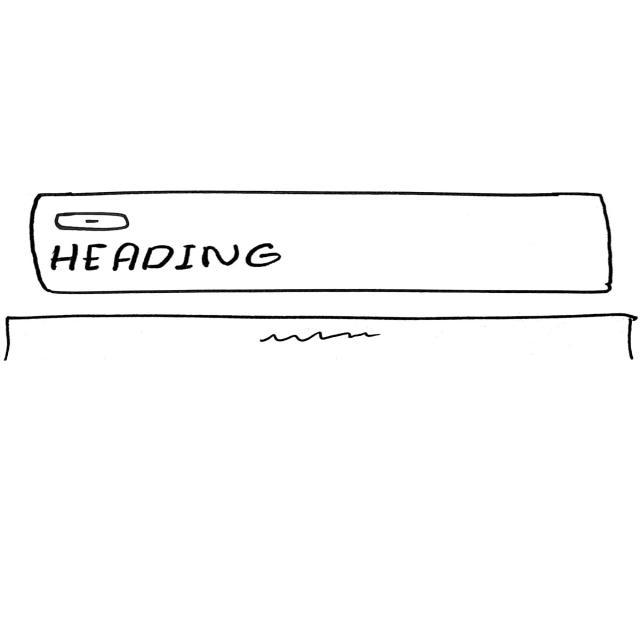container: (28, 189, 616, 296)
icon-button: (52, 210, 132, 232)
label: (47, 240, 282, 274)
text: (259, 330, 381, 346)
